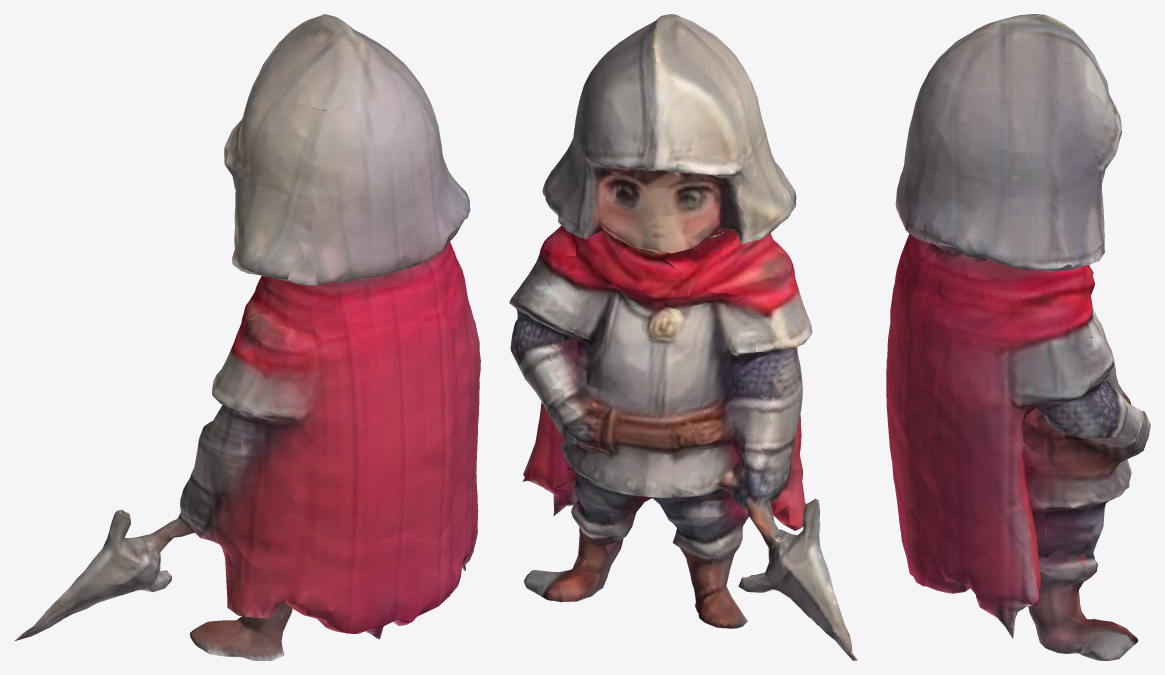
File: pawn.glb
3 renders of one model, left to right at view 1: azimuth 30°, elevation 25°; view 2: azimuth 150°, elevation 25°; view 3: azimuth 270°, elevation 25°, orthographic. The views are drawn at different scales.
Visible parts, largest first — view 1: world; view 2: world; view 3: world.
Part boxes in pixels (left/top/right/bottom): world: left=15, top=14, right=480, bottom=660; world: left=509, top=14, right=857, bottom=660; world: left=886, top=14, right=1150, bottom=660.
Size of the model in its own units: 0.6467 by 0.9307 by 0.366.
Materials: 1 (1 with a texture image).
